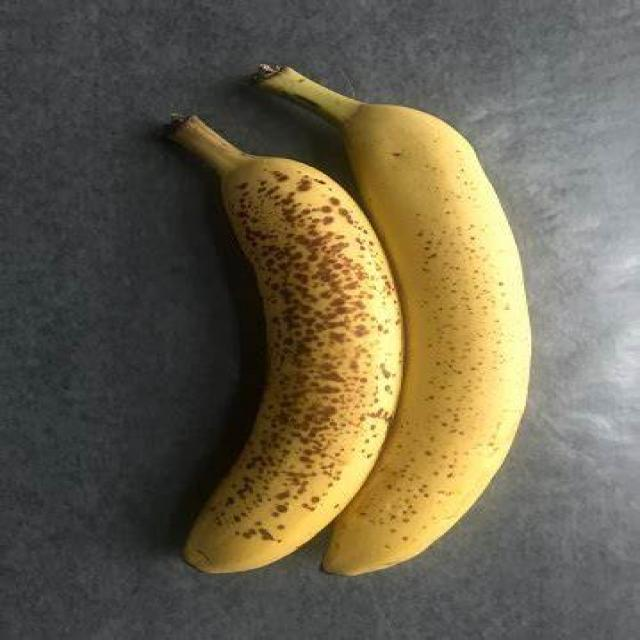Banana: (318, 62, 540, 574), (188, 154, 406, 576)
